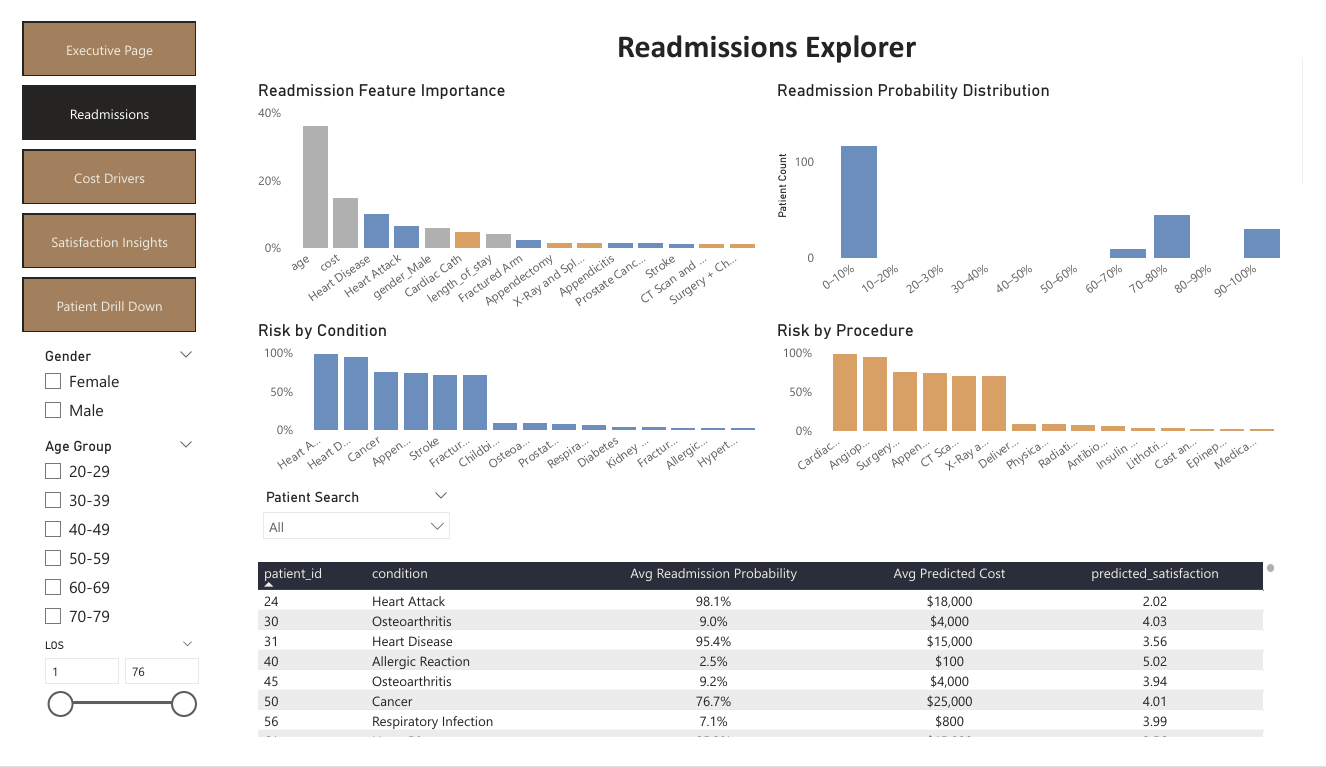

What the dashboard file says about the page in this screenshot:
{"tool":"powerbi","page":{"name":"Readmissions","canvas":[1280,720],"ordinal":1},"visuals":[{"type":"columnChart","title":"Readmission Feature Importance","fields":{"Category":["Readmission Importance.Clean Feature"],"Y":["Readmission Importance.Importance Value"]},"box":[229.7,57.6,519.6,240.3],"z":1000},{"type":"columnChart","title":"Risk by Condition","fields":{"Y":["Predictions.Avg Readmission Probability"],"Category":["phase1_cleaned.condition"]},"box":[230,298.2,519,163],"z":2000},{"type":"columnChart","title":"Risk by Procedure","fields":{"Category":["phase1_cleaned.procedure"],"Y":["Predictions.Avg Readmission Probability"]},"box":[749,297.8,519,164],"z":3000},{"type":"tableEx","fields":{"Values":["phase1_cleaned.patient_id","phase1_cleaned.condition","Predictions.Avg Readmission Probability","Predictions.Avg Predicted Cost","Predictions.predicted_satisfaction"]},"box":[230,536,1027,184],"z":4000},{"type":"slicer","fields":{"Values":["phase1_cleaned.patient_id"]},"box":[230,462,207,63],"z":5000},{"type":"slicer","fields":{"Values":["phase2_summary.age_group"]},"box":[9,411,173,201],"z":6000},{"type":"slicer","fields":{"Values":["phase2_summary.length_of_stay"]},"box":[9,612,173,94],"z":7000},{"type":"clusteredColumnChart","title":"Readmission Probability Distribution","fields":{"Category":["Readmission Bin Table.Readmission Bin"],"Y":["Predictions.Patient Count"]},"box":[749.3,57.6,531.1,240.3],"z":8000},{"type":"textbox","box":[341.4,0,804.2,57.6],"z":9000},{"type":"pageNavigator","box":[0,0,173.8,313],"z":10000},{"type":"slicer","fields":{"Values":["phase1_cleaned.gender"]},"box":[9,321,173,90],"z":11000}]}

Visuals, with their boxes in screenshot pixels (x1, y1, x2, y2), scaled from the page's 1280x720 canvas onto the 1326x767 screenshot:
"Readmission Feature Importance" columnChart: l=238, t=61, r=776, b=317
"Risk by Condition" columnChart: l=238, t=318, r=776, b=491
"Risk by Procedure" columnChart: l=776, t=317, r=1314, b=492
tableEx - phase1_cleaned.patient_id x phase1_cleaned.condition: l=238, t=571, r=1302, b=766
slicer - phase1_cleaned.patient_id: l=238, t=492, r=453, b=559
slicer - phase2_summary.age_group: l=9, t=438, r=189, b=652
slicer - phase2_summary.length_of_stay: l=9, t=652, r=189, b=752
"Readmission Probability Distribution" clusteredColumnChart: l=776, t=61, r=1325, b=317
textbox: l=354, t=0, r=1187, b=61
pageNavigator: l=0, t=0, r=180, b=333
slicer - phase1_cleaned.gender: l=9, t=342, r=189, b=438
